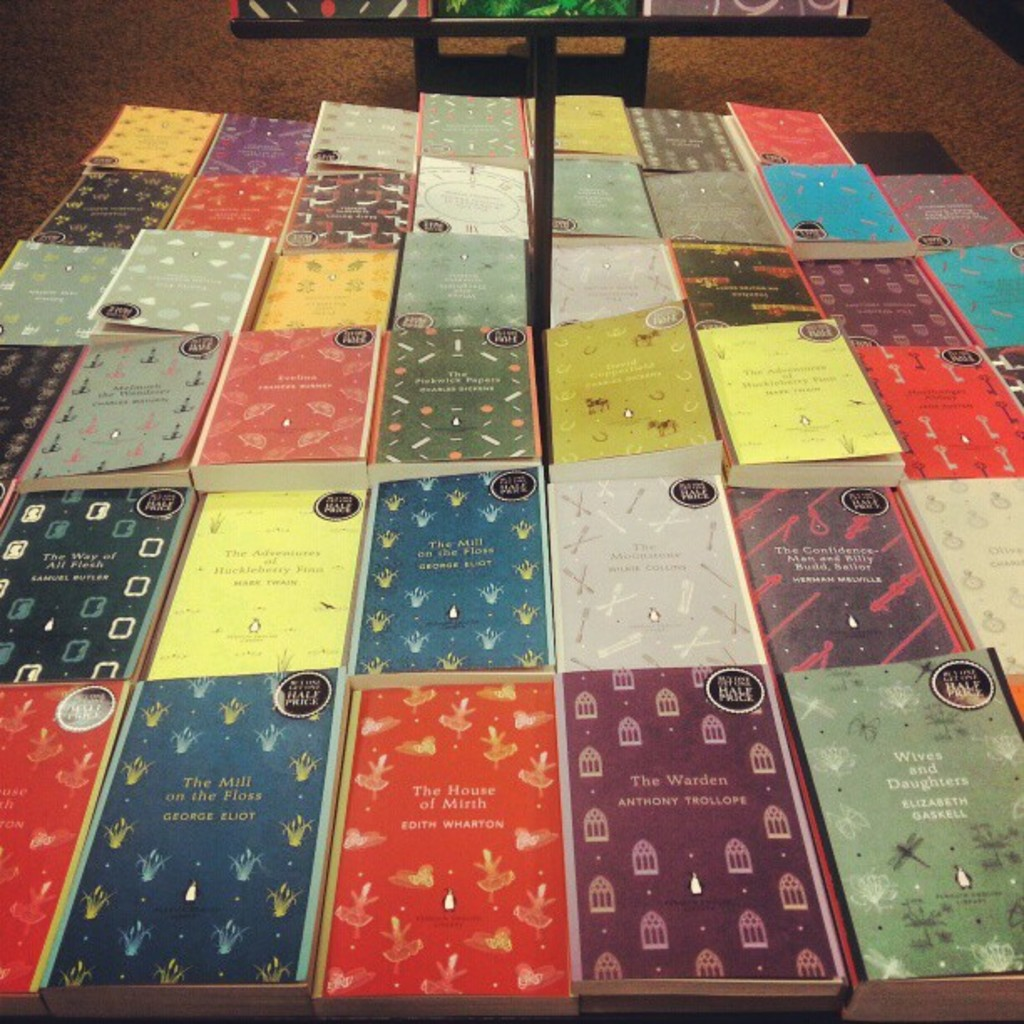Book: (0, 87, 1022, 1022)
